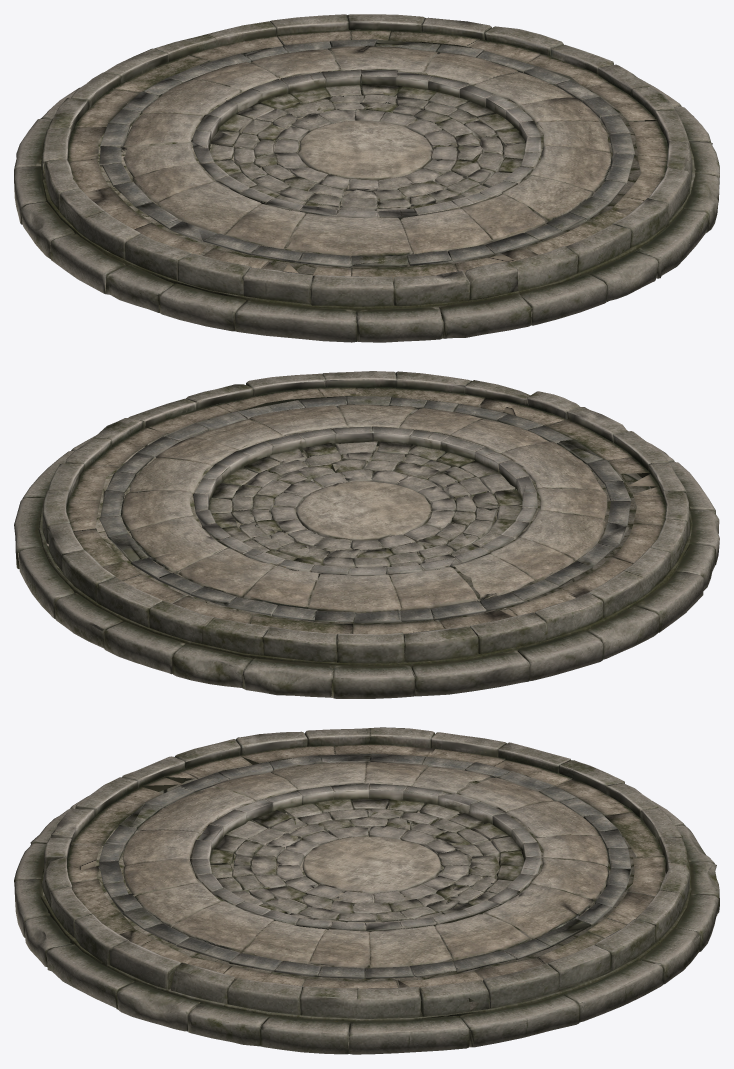
Rendered from Meshy_AI_Ancient_Stone_Circle_20261114_texture.fbx.
3 views of the same model, one above another, from view 1: azimuth 30°, elevation 25°; view 2: azimuth 150°, elevation 25°; view 3: azimuth 270°, elevation 25° (orthographic).
Parts seen in each view (by area): view 1: Mesh_0; view 2: Mesh_0; view 3: Mesh_0.
Boxes of the visible parts, x1,y1,x2,y2 form: Mesh_0: (14,14,719,342); Mesh_0: (14,371,719,698); Mesh_0: (14,727,719,1054).
Bounding box in the file's own units: 94.78 × 7.47 × 95.07.
1 material, 1 textured.
